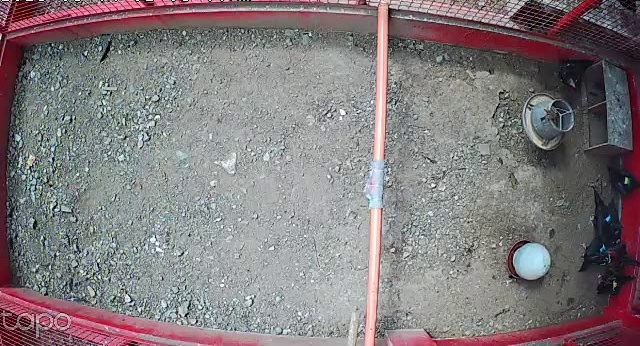Chicken: (582, 184, 623, 242), (592, 264, 639, 302), (599, 161, 640, 196), (553, 59, 593, 92), (578, 238, 613, 271)
Rooster: (603, 238, 640, 268)
Saddle_Color_Yellow: (613, 280, 617, 289)
Saddle_Color_YellowGreen: (624, 176, 631, 184)
